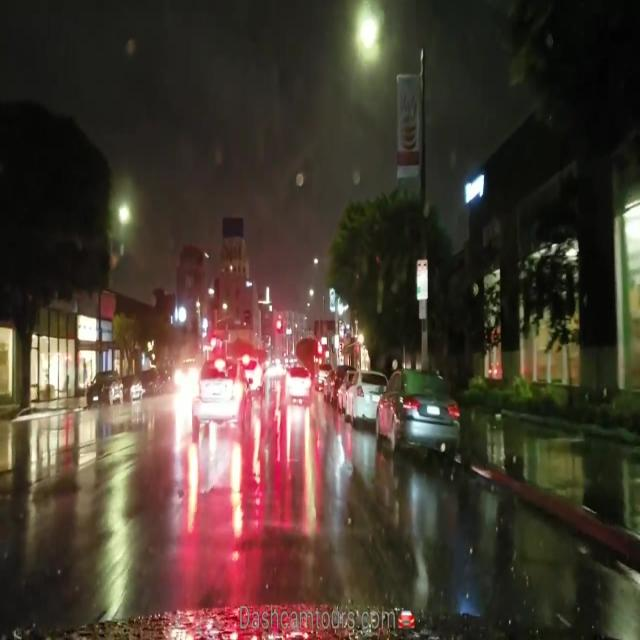Car: (376, 368, 455, 451), (191, 357, 248, 448), (341, 369, 377, 426), (84, 366, 121, 409), (283, 362, 311, 405)
